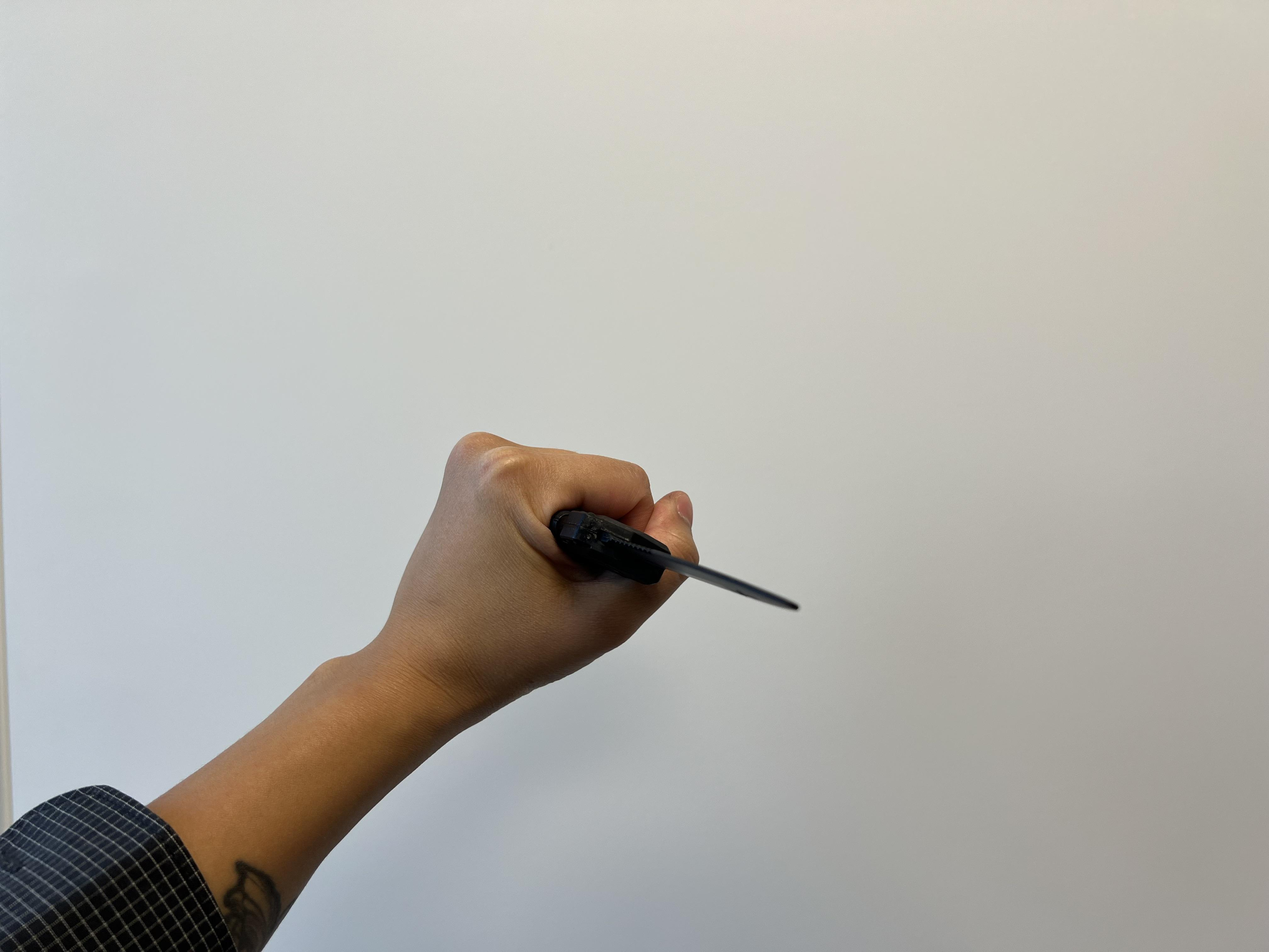Knife: (0, 430, 705, 952), (382, 417, 699, 711), (540, 486, 801, 623)
